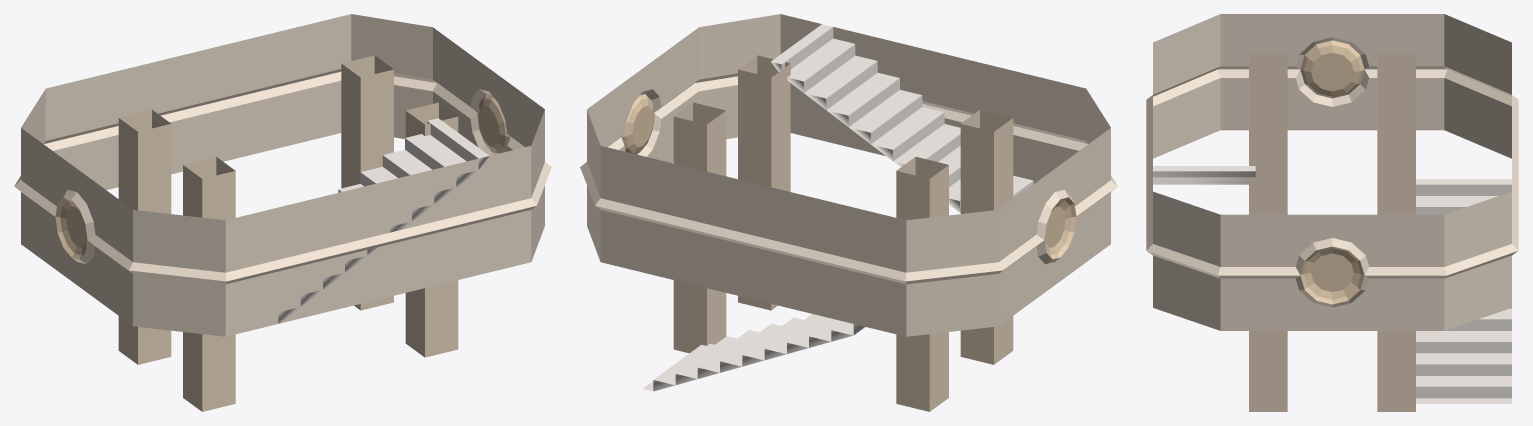
Rendered from LibraryStairsNoColliders-transformed.glb.
The picture shows the model from 3 angles, left to right: view 1: azimuth 30°, elevation 25°; view 2: azimuth 150°, elevation 25°; view 3: azimuth 270°, elevation 25°; orthographic projection.
Parts seen in each view (by area): view 1: object1.021, object1.036, object1; view 2: object1.021, object1.036, object1; view 3: object1.021, object1.036, object1.
Part boxes in pixels (x1=…): object1.021: x1=14, y1=14, x2=551, y2=336; object1.036: x1=118, y1=55, x2=458, y2=411; object1: x1=278, y1=118, x2=489, y2=323; object1.021: x1=580, y1=14, x2=1117, y2=336; object1.036: x1=673, y1=55, x2=1013, y2=411; object1: x1=642, y1=24, x2=1033, y2=391; object1.021: x1=1146, y1=14, x2=1518, y2=330; object1.036: x1=1249, y1=54, x2=1415, y2=411; object1: x1=1153, y1=166, x2=1511, y2=403.
Bounding box in the file's own units: 3.8 × 2 × 2.9.
